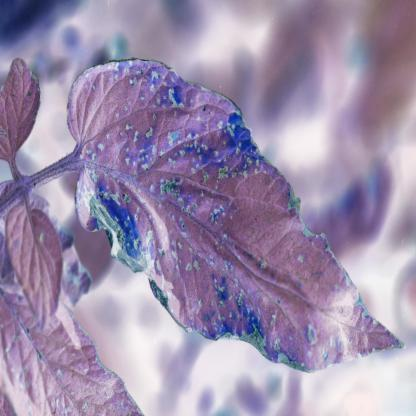tomato leaf bacterial spot: (44, 53, 399, 393)
